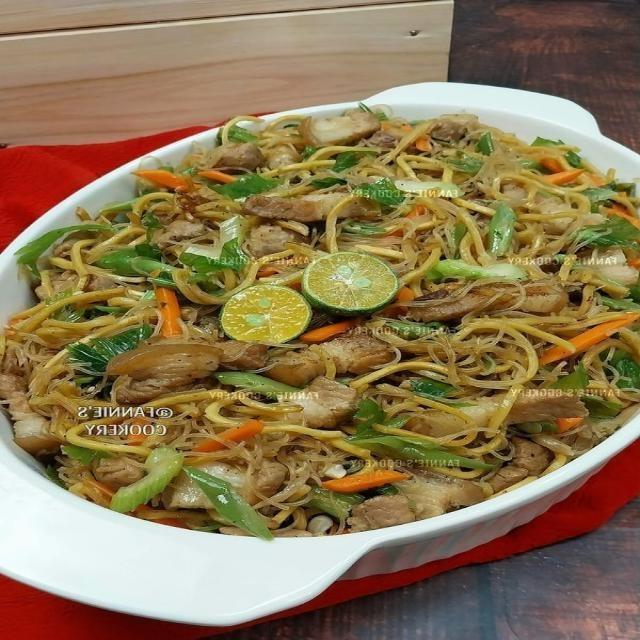pancit bihon: (9, 107, 639, 535)
